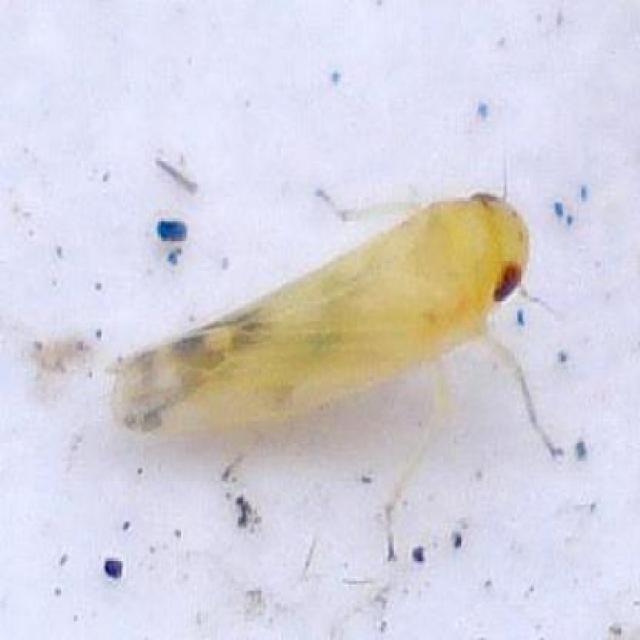green-leafhopper: (110, 191, 563, 556)
